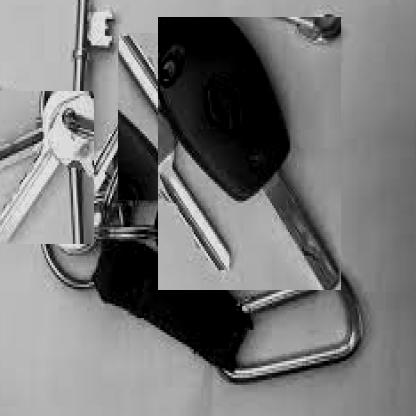key: (158, 17, 341, 289), (118, 33, 230, 200), (0, 91, 94, 244), (52, 118, 130, 233)
